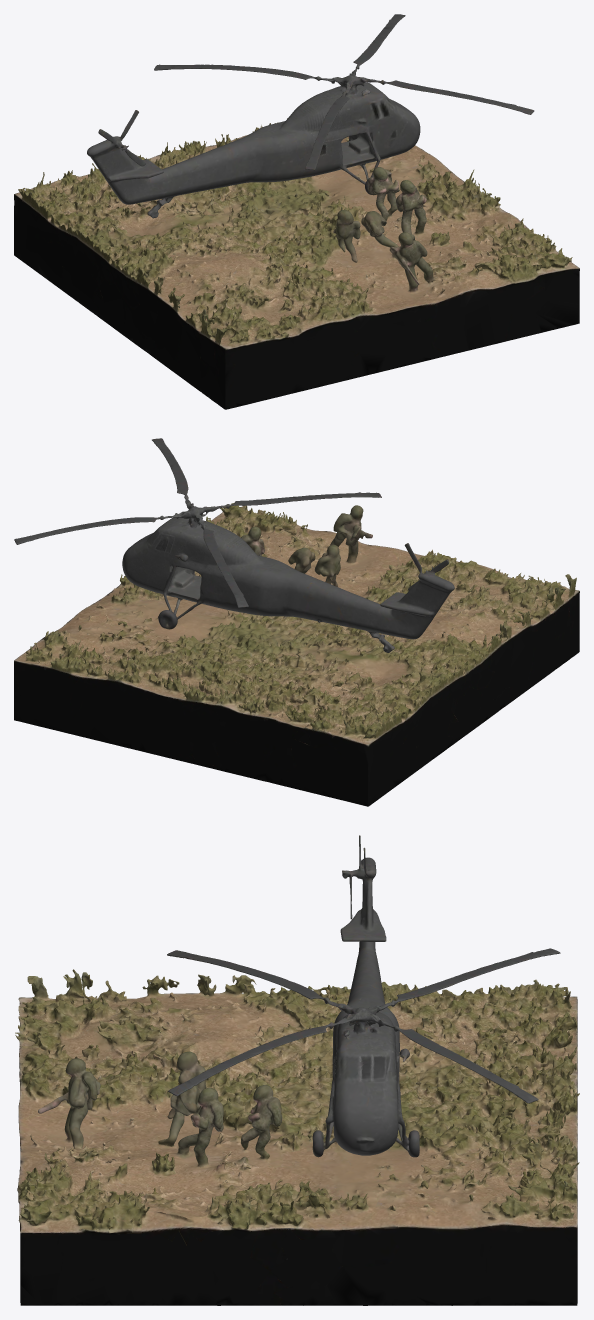
Rendered from my_dung_truc_thang_van.glb.
3 views of the same model, one above another, from view 1: azimuth 30°, elevation 25°; view 2: azimuth 150°, elevation 25°; view 3: azimuth 270°, elevation 25° (orthographic). The views are drawn at different scales.
Bounding box in the file's own units: 1.7 × 0.8347 × 1.67.
1 material, 1 textured.
